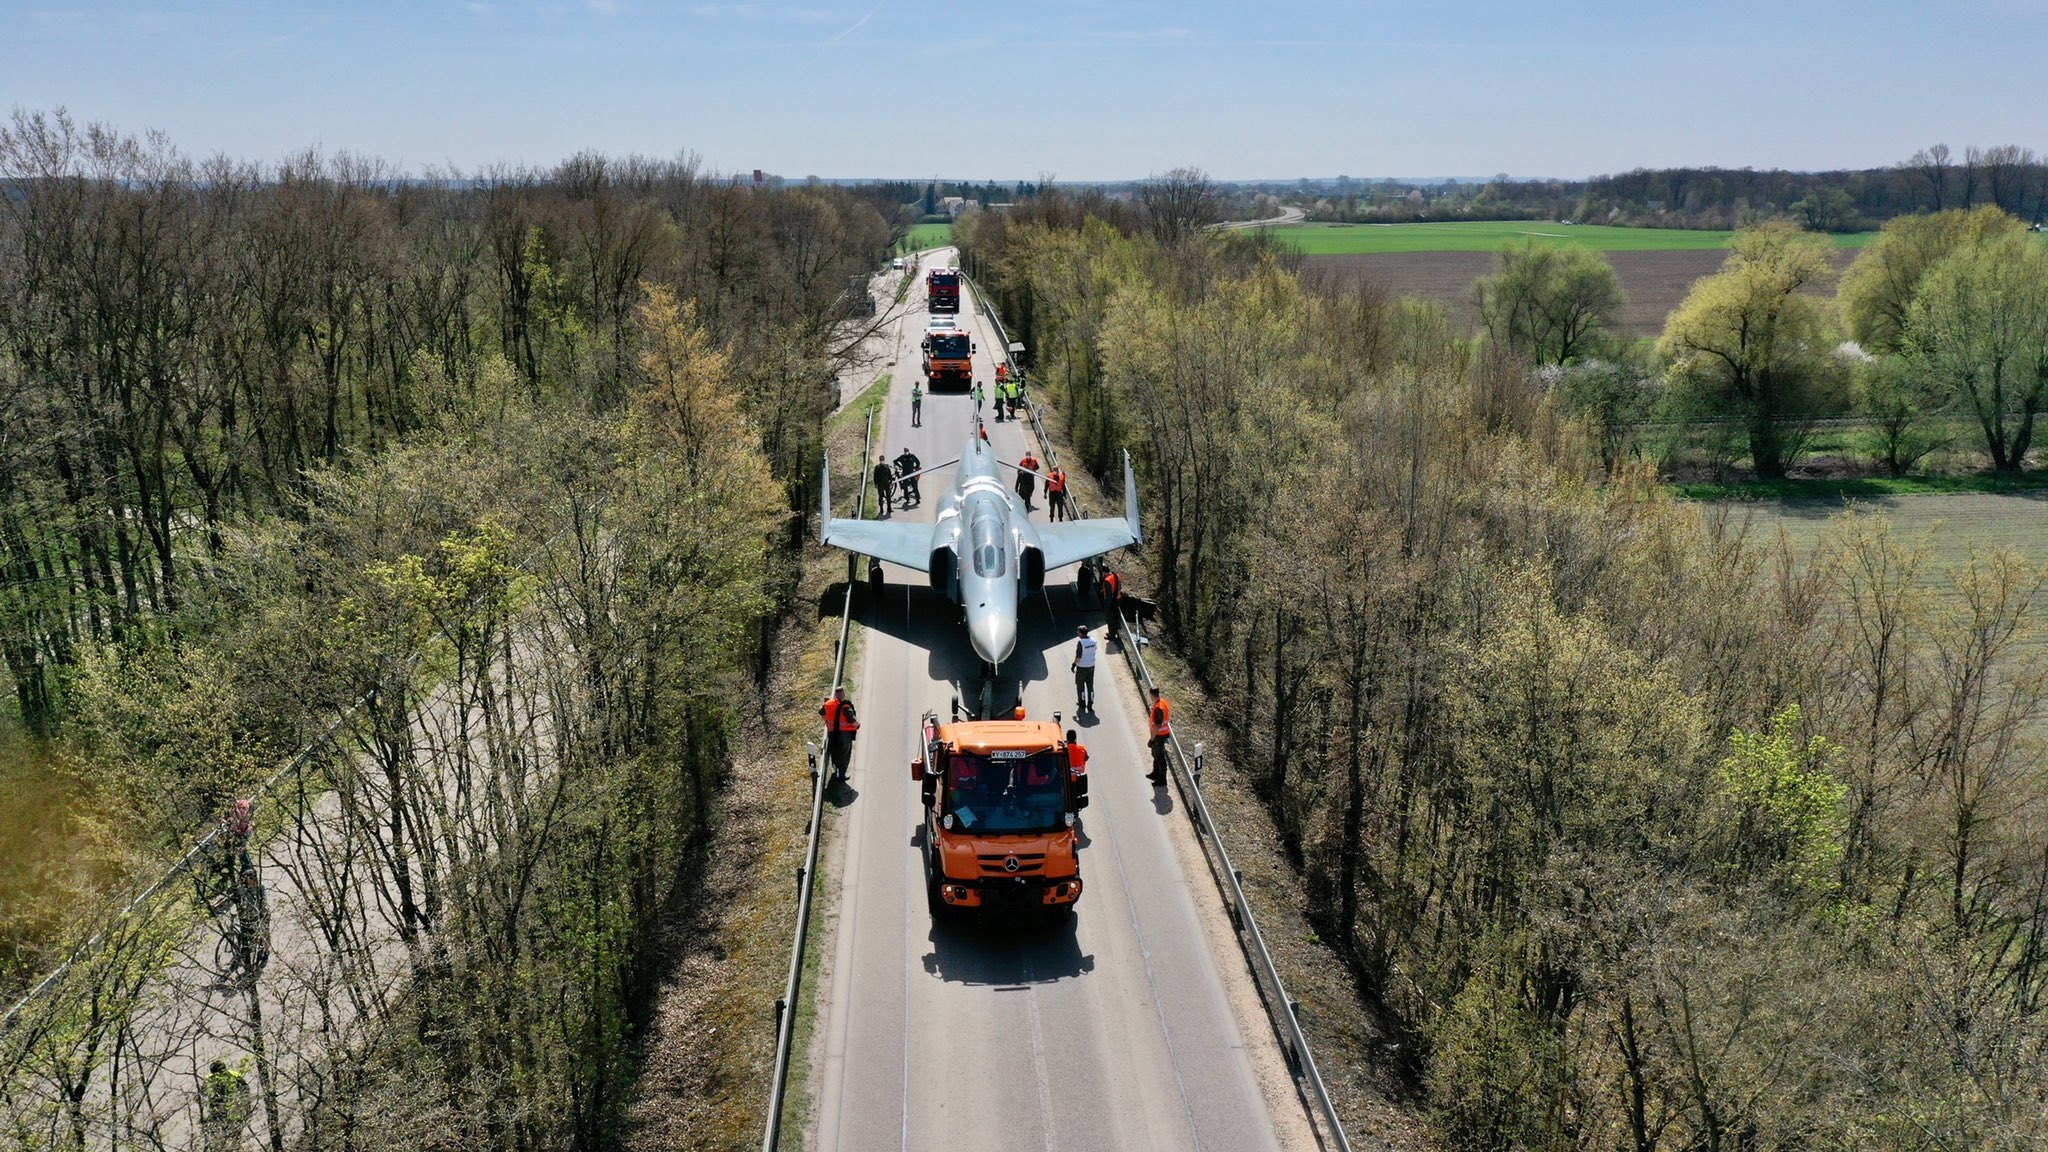F4: (820, 370, 1144, 678)
